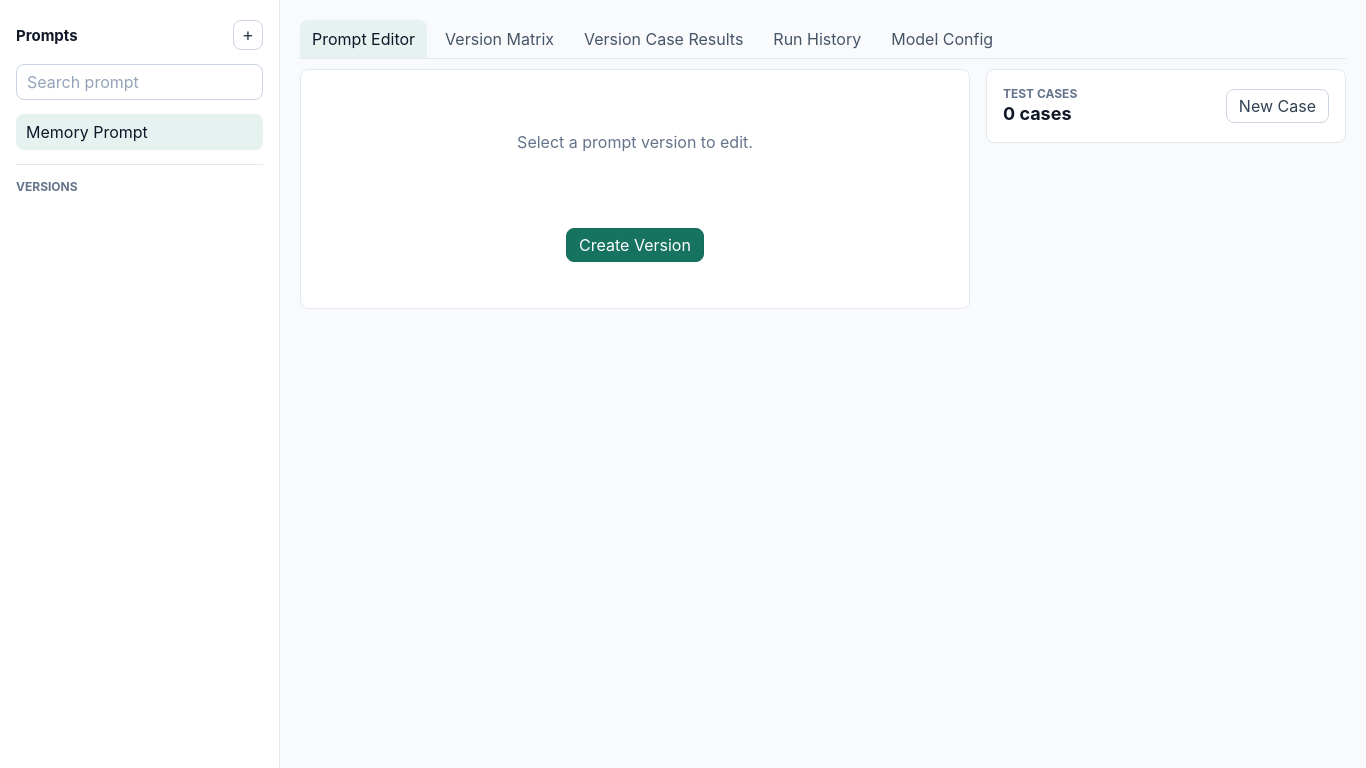
App prompt creation › opens an in-app form when creating a test case
This screenshot has width=1366, height=768.
Check: the button "Memory Prompt" is shown, box [16,114,263,150]
What coordinates should you click on to do the following:
click the button "New Case"
I would click on:
 (1277, 106)
Its box is [1226,89,1329,123].
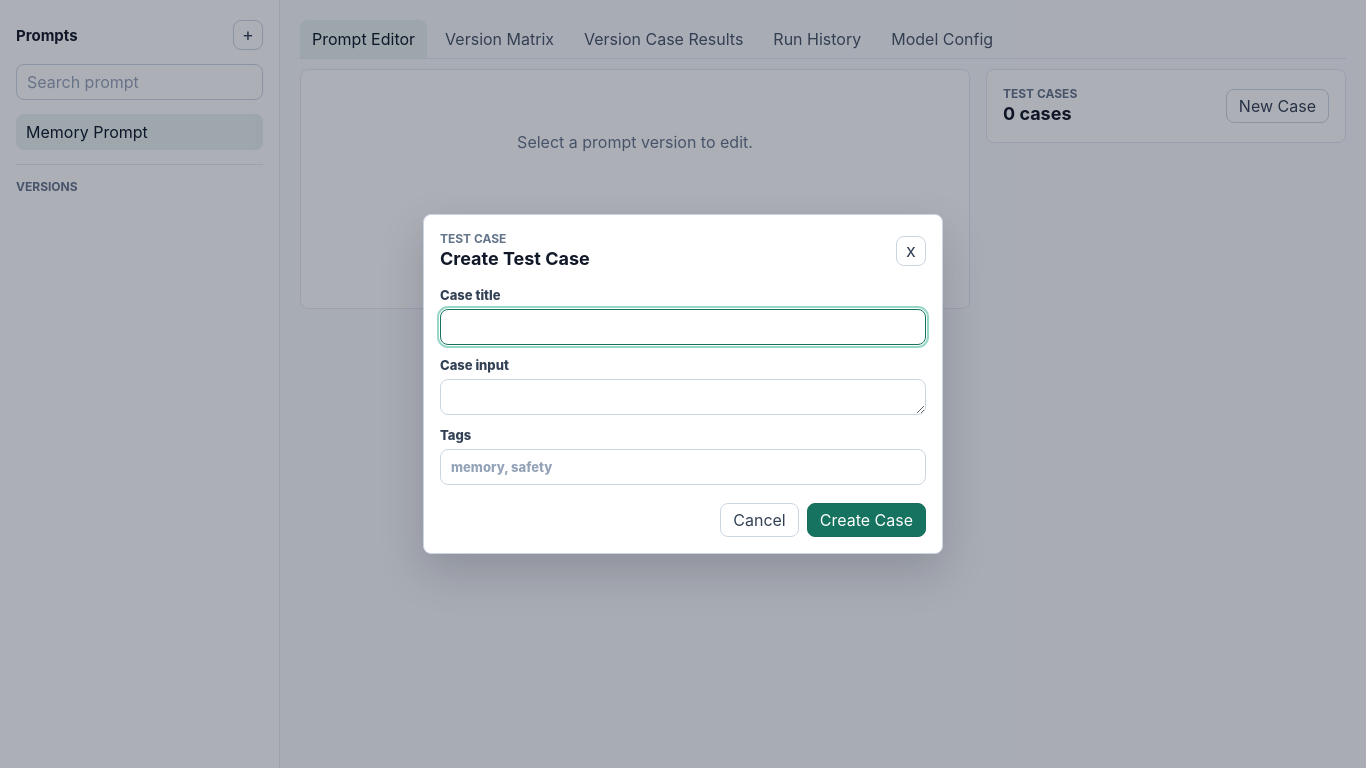
Check: the dialog "Create Test Case" is shown, box [423,214,943,554]
Check: the field labelled "Case title" is shown, box [440,309,926,345]
Check: the text box labelled "Case input" is shown, box [440,379,926,415]
